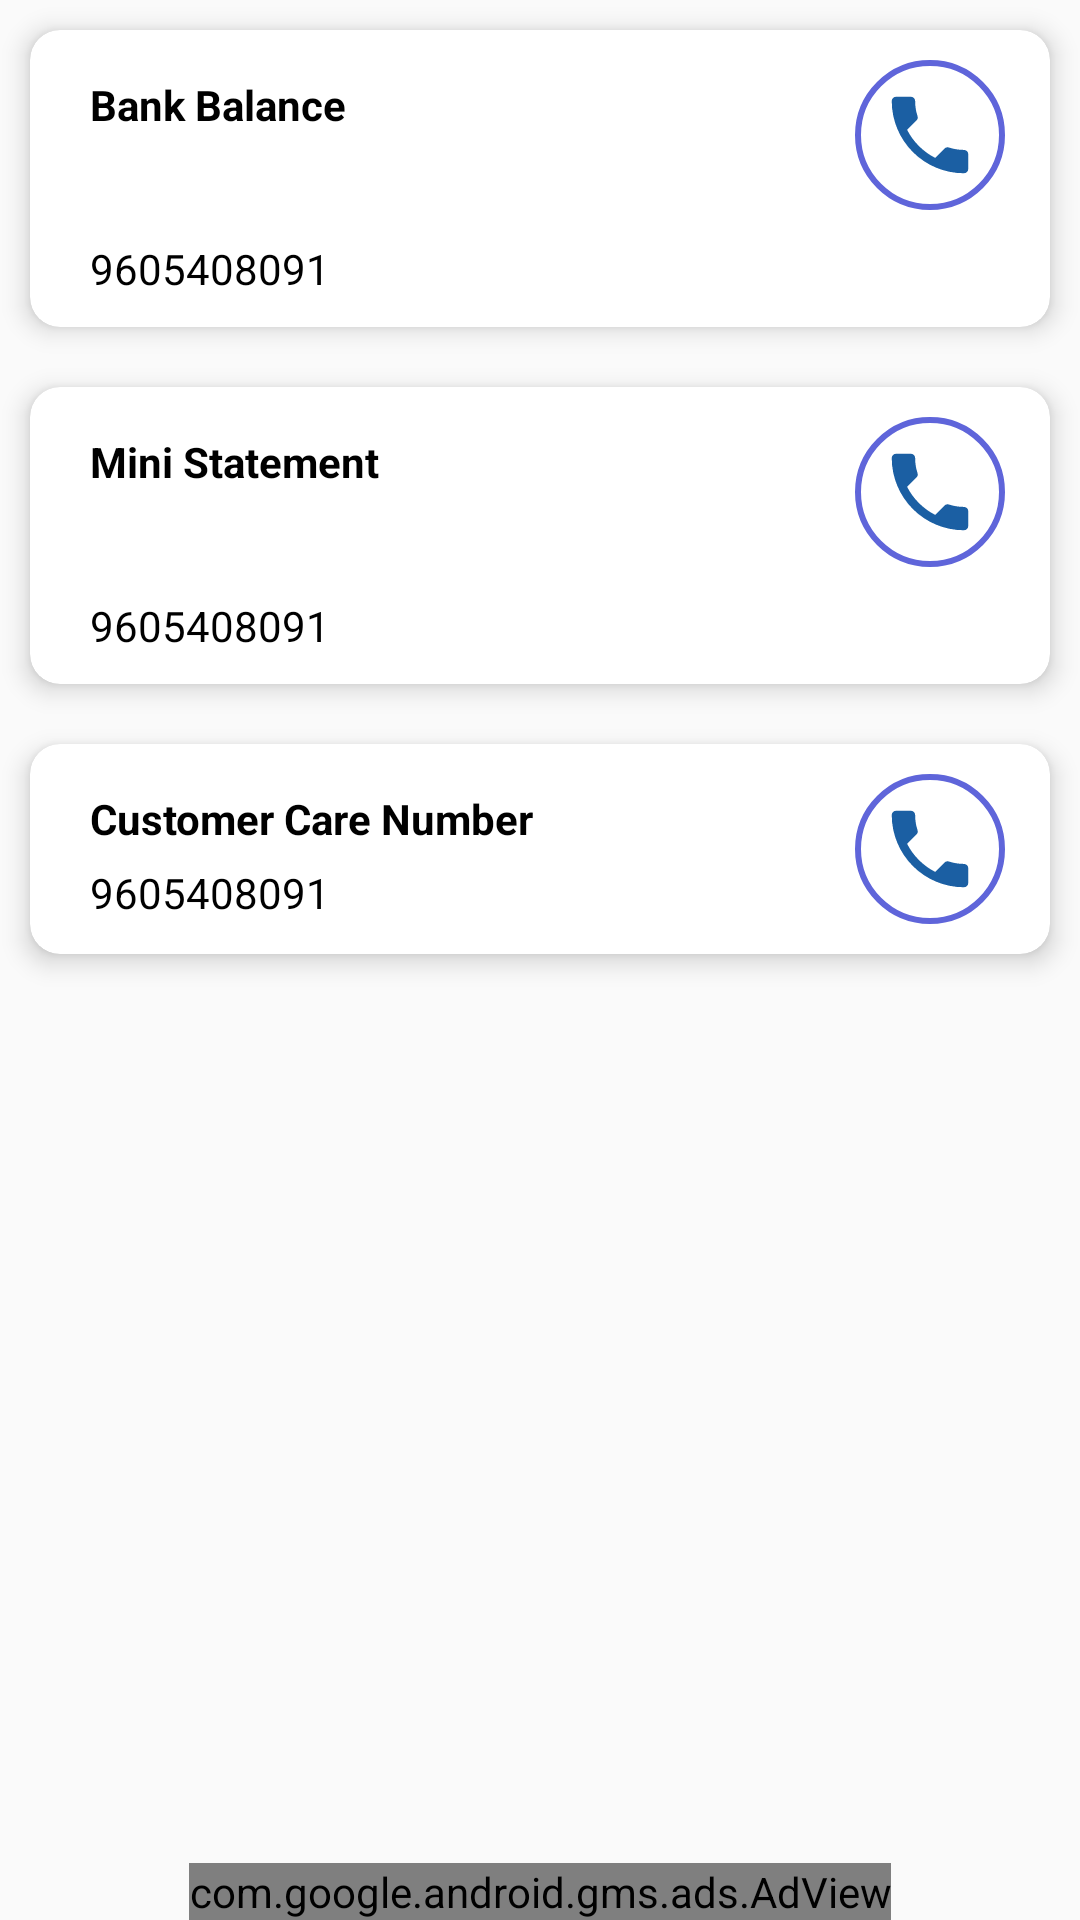

Screen size 1080*1920. Icon name, then its center in pixels as (x,y):
call: (930,135), (930,492), (930,849)
